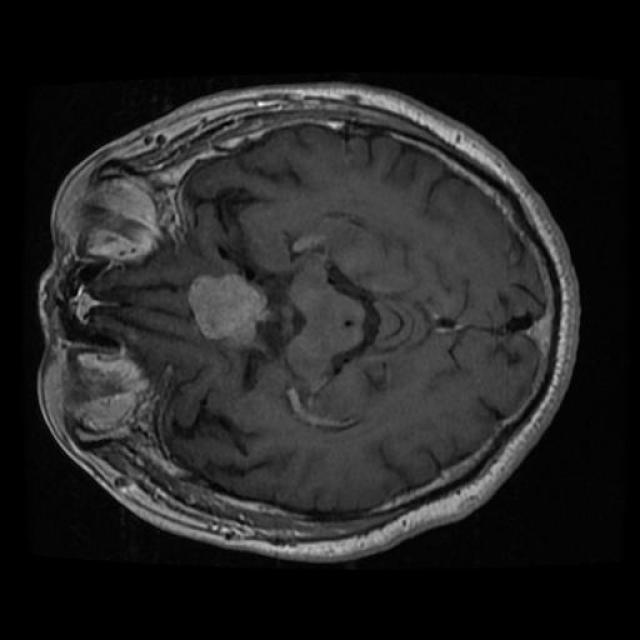Pituitary: (188, 274, 270, 346)
